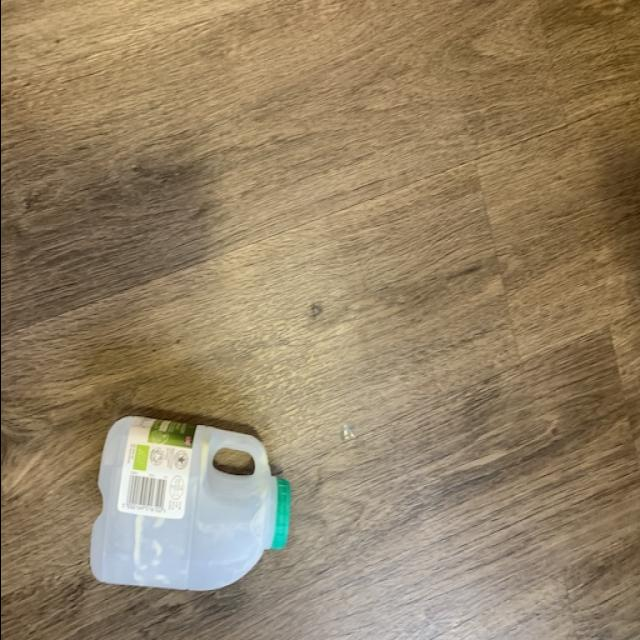HDPEM: (84, 411, 296, 595)
